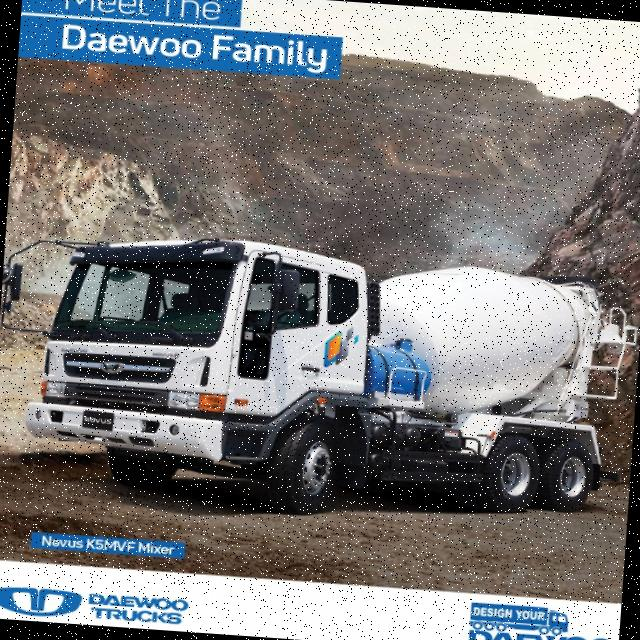Mixer Truck: (21, 226, 640, 534)
